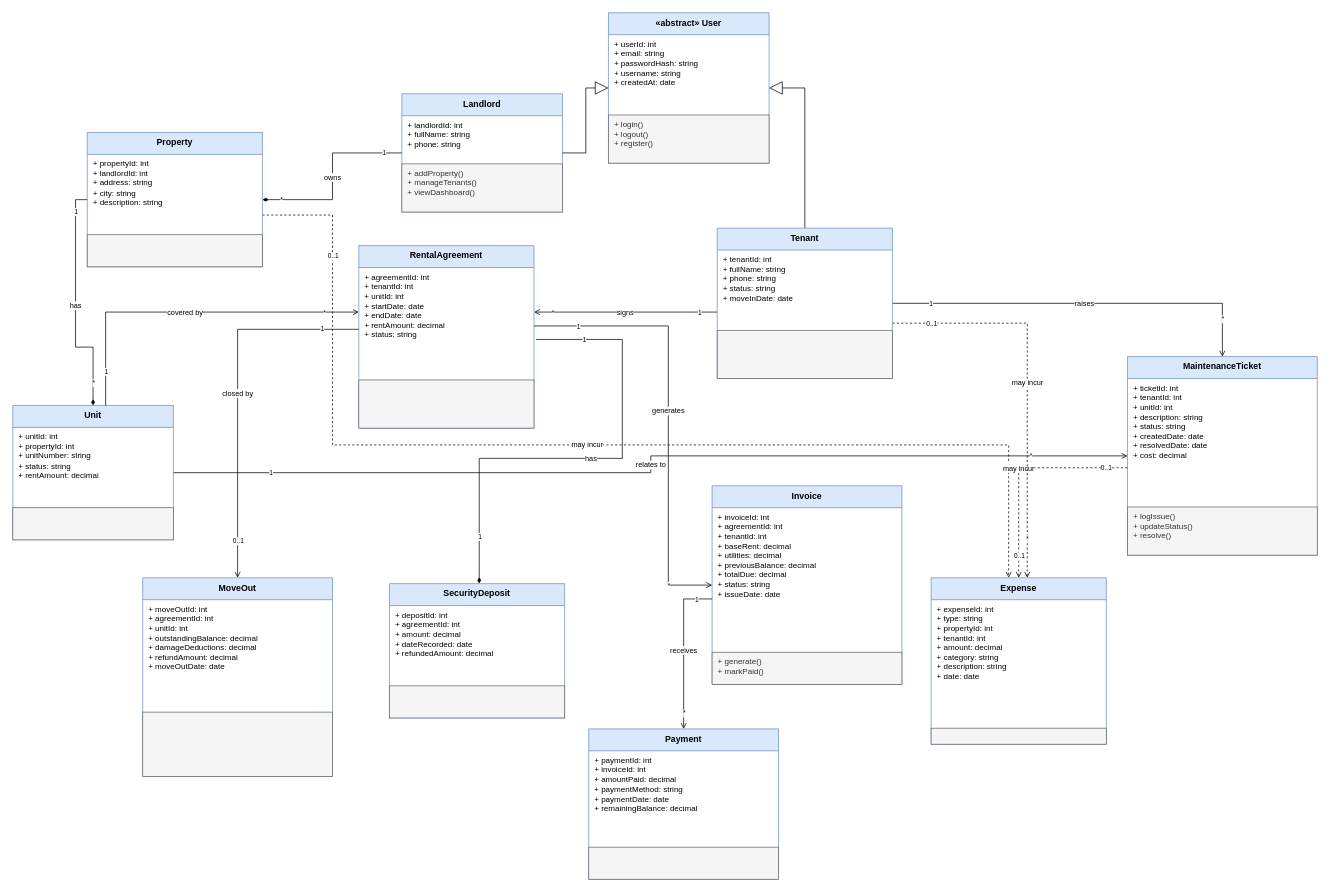
The diagram is 1330 pixels wide and 894 high, and some of its shapes have lost their labels. Each missing label, with the centre of its shape:
"+ addExpense()" belongs at (1018,735).
"+ addUnit() + getUnits()" belongs at (174,250).
"+ checkBalance() + calculateRefund() + generateFinalInvoice() + archiveTenant()" belongs at (237,743).
"+ create() + update() + terminate()" belongs at (446,403).
"+ recordDeposit() + processRefund()" belongs at (477,701).
"+ recordPayment() + generateReceipt()" belongs at (683,862).
"+ setStatus() + assignTenant()" belongs at (92,523).
"+ viewInvoices() + payRent() + submitMaintenanceRequest()" belongs at (804,354).
